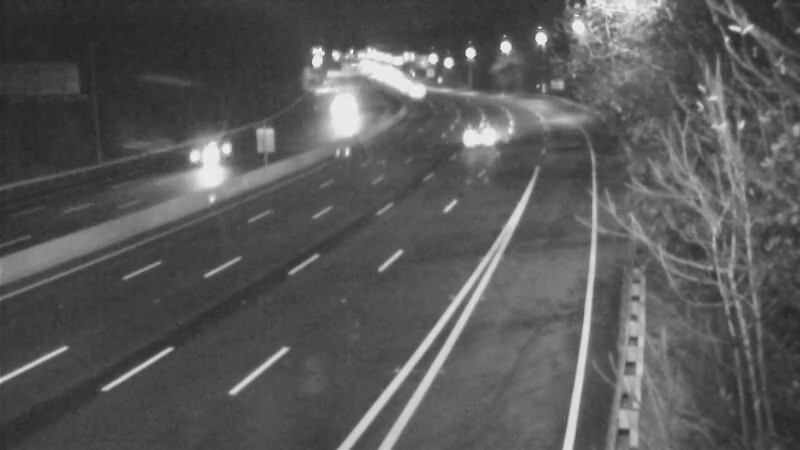vehicle: (159, 121, 239, 201), (390, 66, 440, 116), (452, 111, 502, 161), (320, 91, 370, 141)
